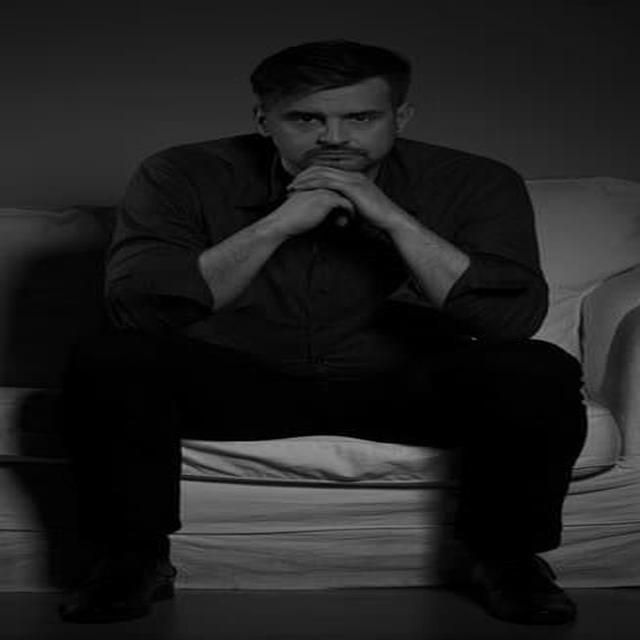Sadness: (271, 85, 392, 171)
